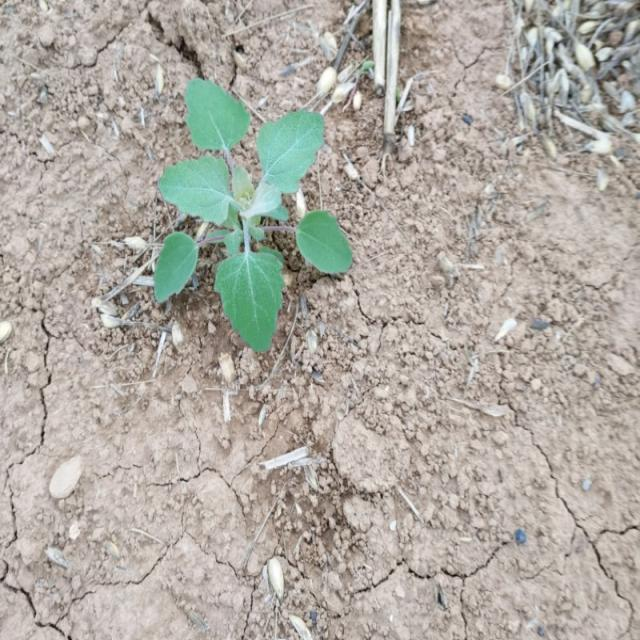goosefoots: (130, 77, 372, 353)
